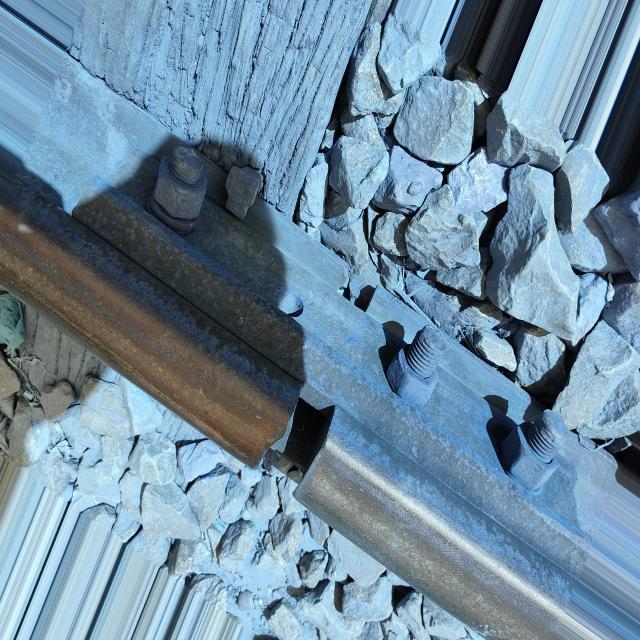Defective Joint: (88, 142, 592, 574)
